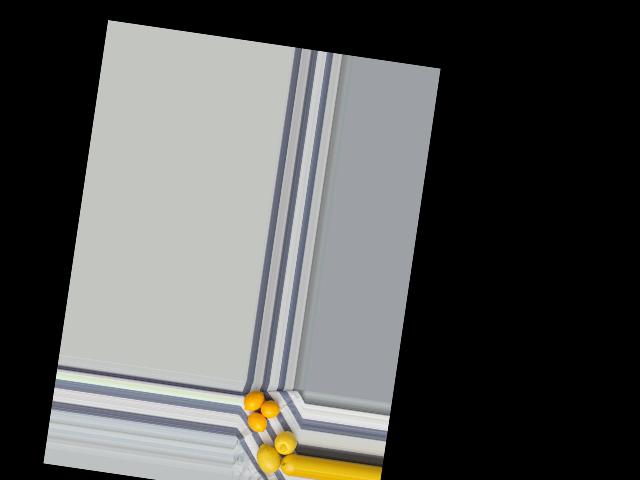lemon: (242, 388, 265, 413)
